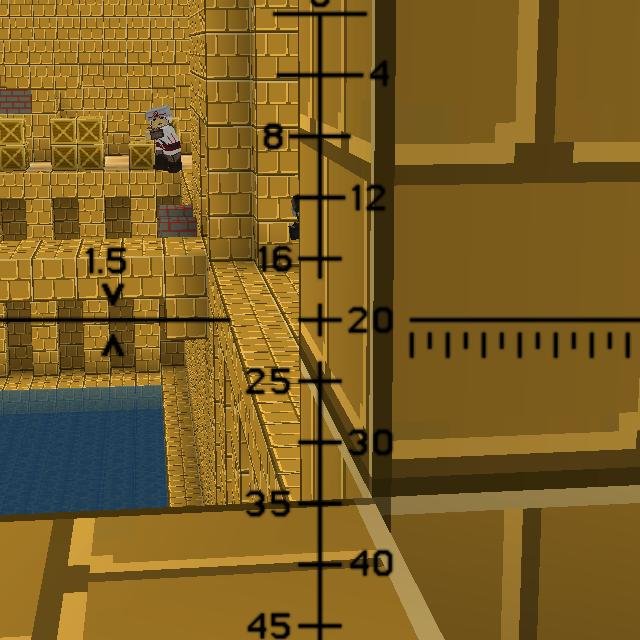enemy: (143, 103, 183, 174), (288, 193, 301, 240)
